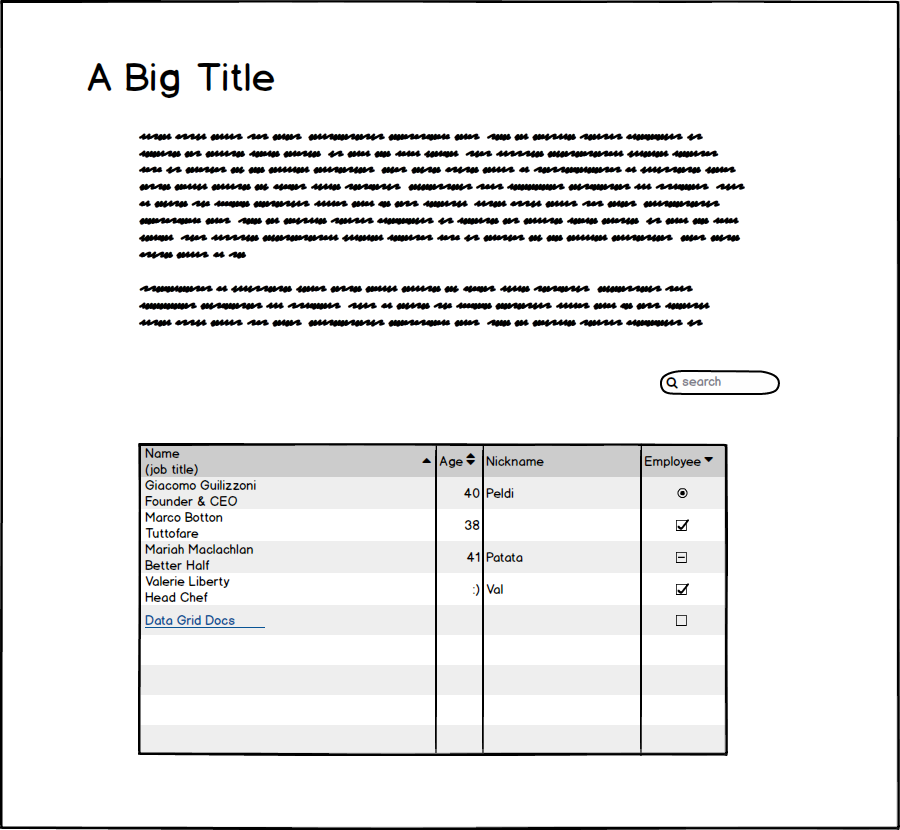h1: (73, 52, 280, 102)
p: (136, 124, 758, 342)
search: (644, 361, 802, 405)
table: (135, 438, 735, 768)
